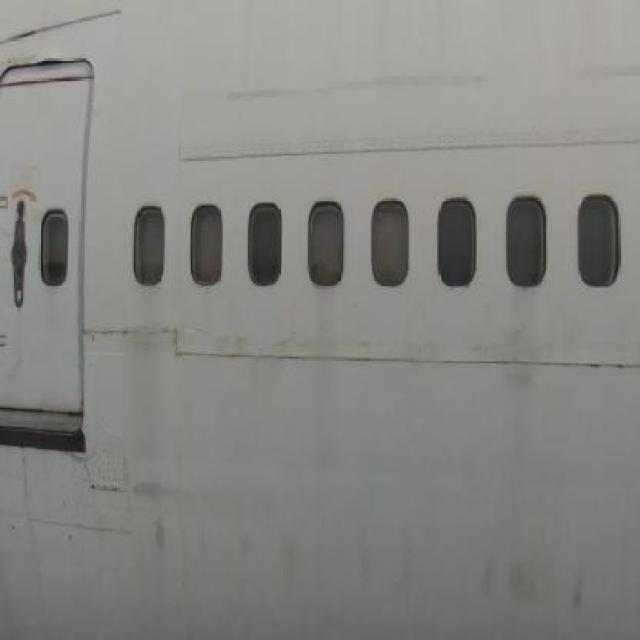Scartch: (220, 65, 494, 113), (461, 534, 599, 623), (344, 518, 425, 614), (130, 466, 204, 571), (235, 515, 313, 613), (575, 42, 640, 98)
